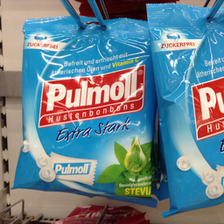candy: (20, 18, 156, 199), (144, 2, 223, 218)
